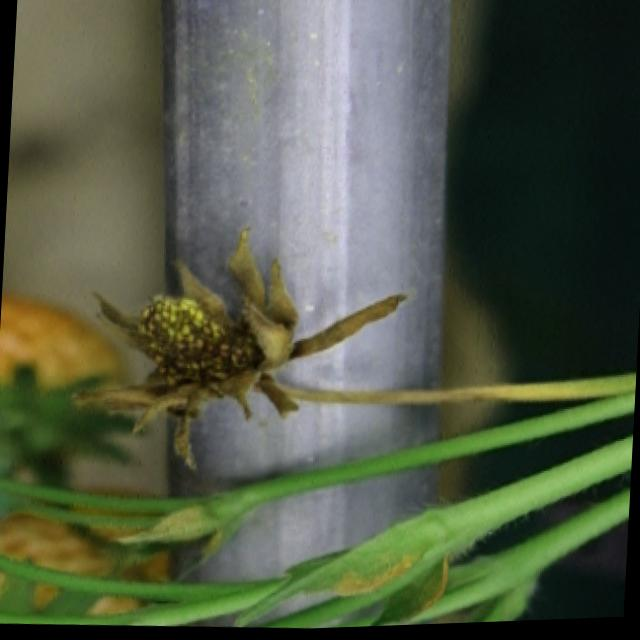Gray Mold: (74, 228, 407, 477)
